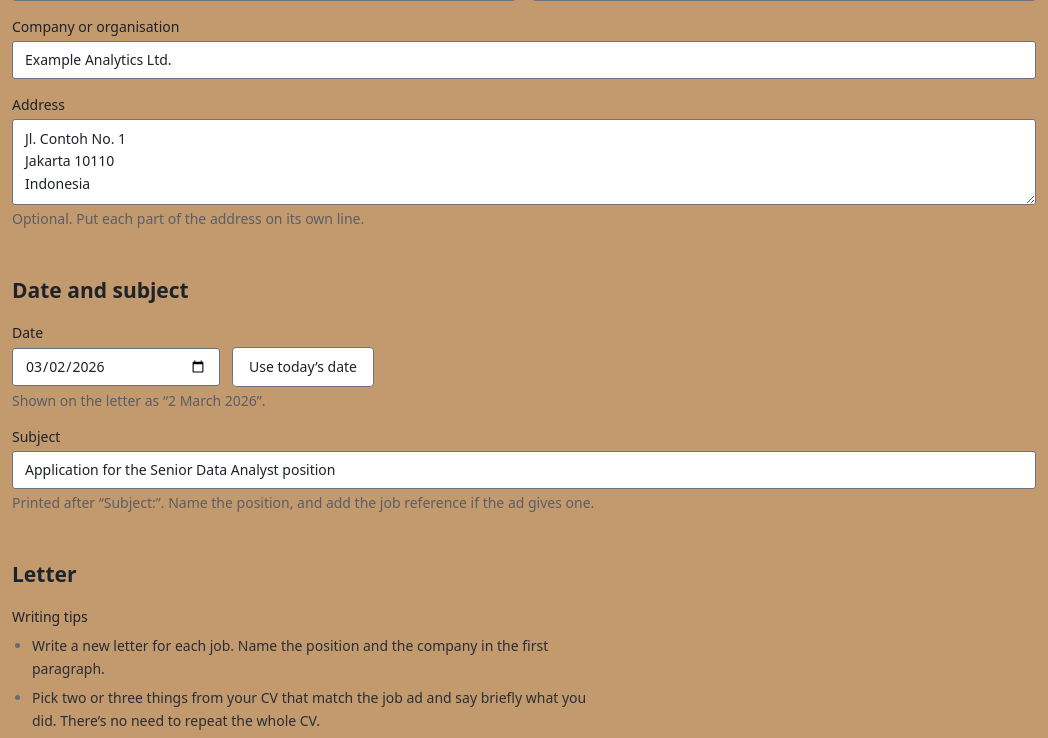
Test: LetterForm date and subject › sets today's date and keeps focus on the date field
(page scrolled)
Click the button "Use today’s date".
click(303, 367)  # box 232,347 -> 374,387
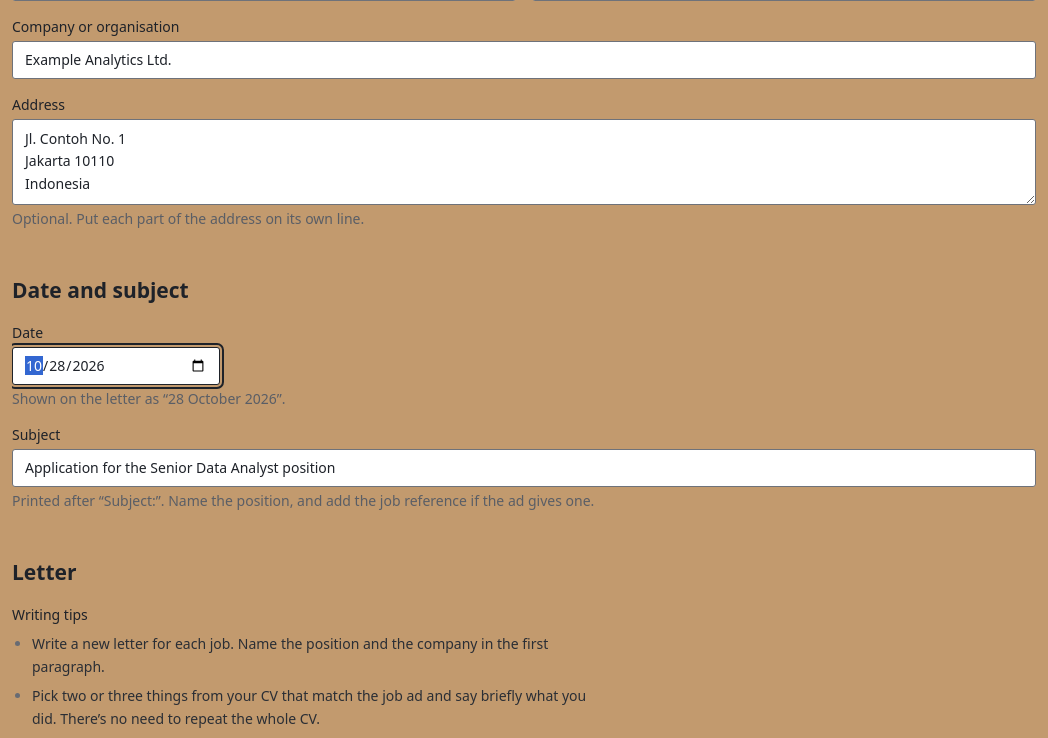
Expected: the button "Use today’s date" is gone
